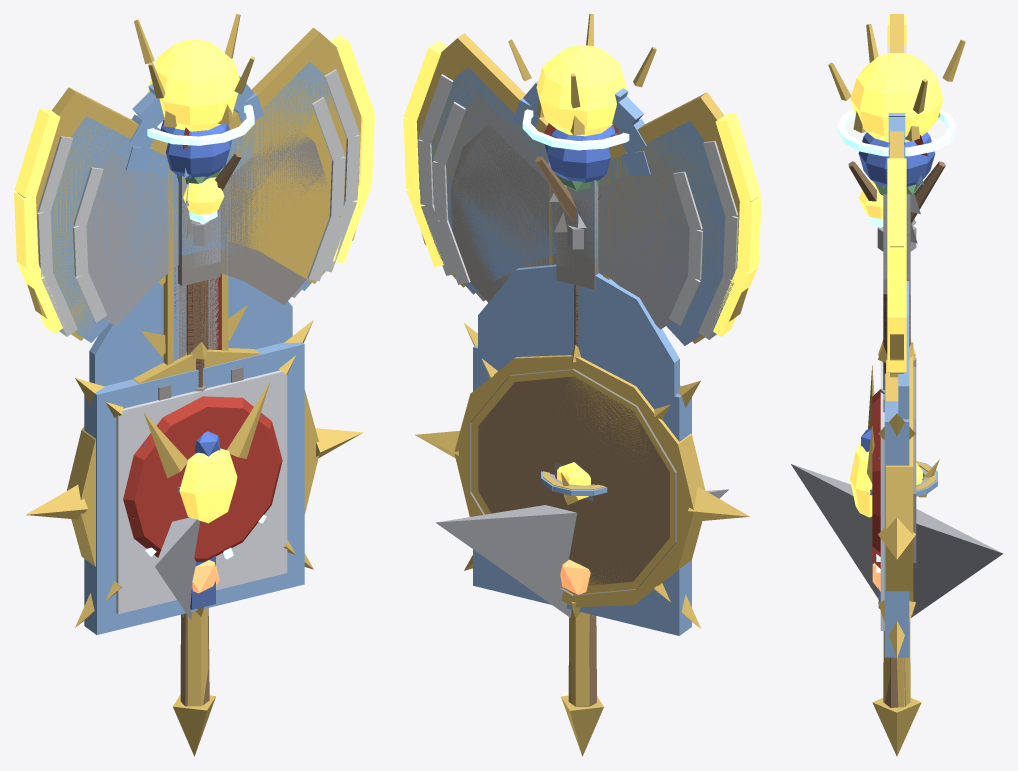
File: gear_weapons.glb
3 renders of one model, left to right at view 1: azimuth 30°, elevation 25°; view 2: azimuth 150°, elevation 25°; view 3: azimuth 270°, elevation 25°, orthographic.
Visible parts, largest first — view 1: shield2, axe3, shield3, axe2, axe1, axe0, staff3, sword3, shield1, staff2, staff1, staff0 (+3 smaller); view 2: axe1, shield0, shield2, axe2, axe3, shield3, axe0, staff3, shield1, staff2, staff1, staff0 (+2 smaller); view 3: staff3, shield1, shield3, axe3, shield2, staff1, staff2, staff0, axe1, shield0, axe0, axe2 (+1 smaller).
Boxes of the visible parts, x1,y1,x2,y2 form: shield2: (84,276,304,634); axe3: (14,27,374,386); shield3: (26,319,363,627); axe2: (37,62,360,378); axe1: (73,91,345,387); axe0: (178,125,327,387); staff3: (134,14,254,756); sword3: (141,127,247,593); shield1: (142,414,264,620); staff2: (126,41,263,172); staff1: (160,120,232,391); staff0: (177,151,241,706); axe1: (432,96,703,344); shield0: (470,369,676,595); shield2: (473,264,691,635); axe2: (418,67,738,345); axe3: (403,33,761,346); shield3: (415,323,749,628); axe0: (450,124,598,346); staff3: (508,14,656,756); shield1: (436,489,728,617); staff2: (513,46,650,176); staff1: (544,125,616,706); staff0: (535,156,600,706); staff3: (828,24,965,756); shield1: (791,428,1003,617); shield3: (850,339,915,658); axe3: (858,14,910,389); shield2: (876,281,909,657); staff1: (858,132,935,393); staff2: (837,55,956,158); staff0: (848,161,945,707); axe1: (883,195,910,389); shield0: (883,358,916,599); axe0: (883,210,910,389); axe2: (866,46,910,385).
Size of the model in its own units: 1.45 by 2.84 by 0.7778.
